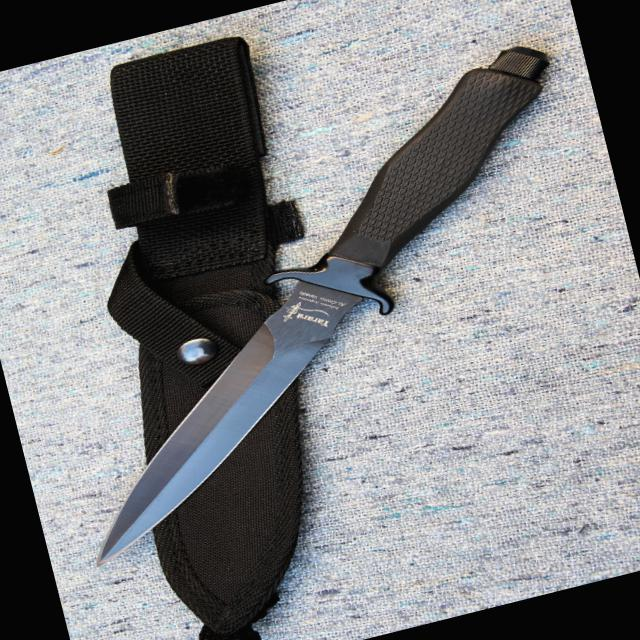knife: (35, 294, 380, 576)
